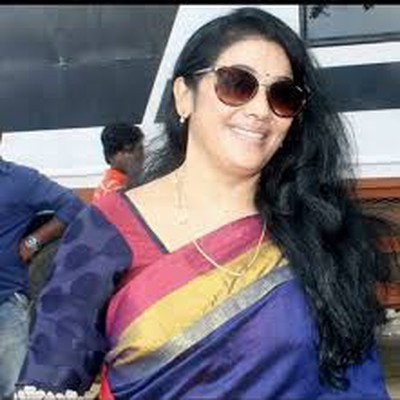eywear: (187, 49, 330, 138)
